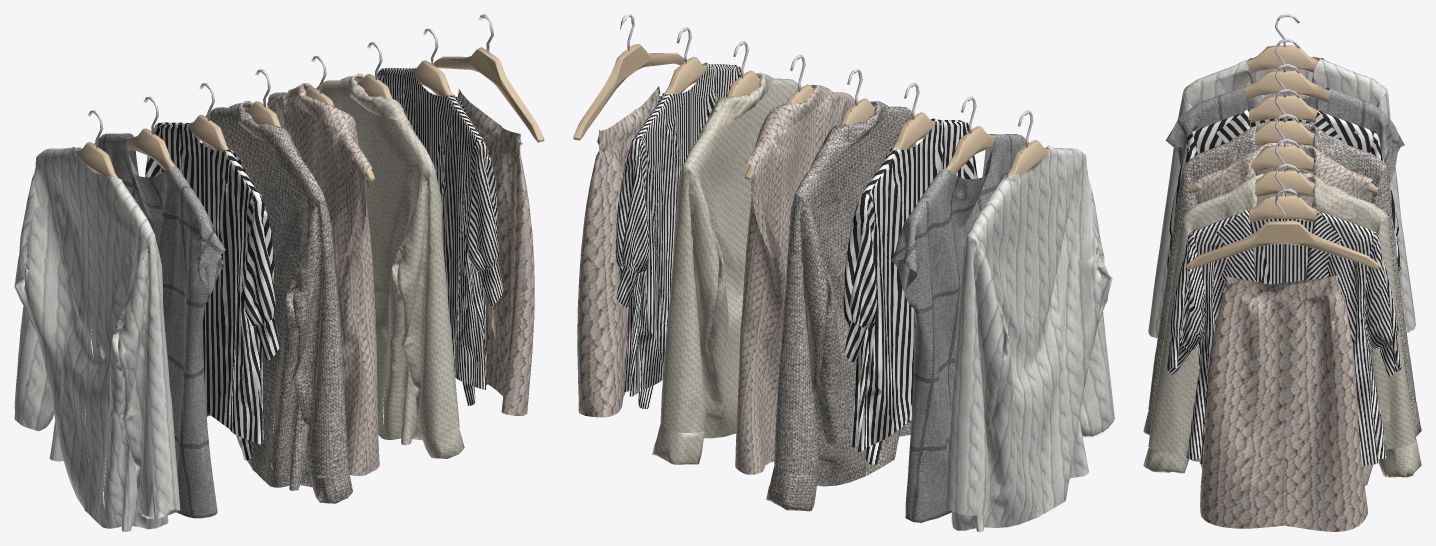
File: rod-hang-short.glb
3 views of the same model, side by side, from view 1: azimuth 30°, elevation 25°; view 2: azimuth 150°, elevation 25°; view 3: azimuth 270°, elevation 25° (orthographic). The views are drawn at different scales.
Parts seen in each view (by area): view 1: set_14_008.001, set_14_015.001, set_14_014.001, set_14_009.001, set_14_017.001, set_14_013.001, set_14_016.001, set_14_094.001, Hanger_set_14_049.001, Hanger_set_14_029.001, Hanger_set_14_051.001, Hanger_set_14_028.001 (+3 smaller); view 2: set_14_008.001, set_14_015.001, set_14_014.001, set_14_009.001, set_14_017.001, set_14_013.001, set_14_016.001, set_14_094.001, Hanger_set_14_049.001, Hanger_set_14_029.001, Hanger_set_14_028.001, Hanger_set_14_051.001 (+3 smaller); view 3: set_14_094.001, set_14_016.001, set_14_014.001, set_14_015.001, set_14_008.001, set_14_017.001, set_14_009.001, set_14_013.001, Hanger_set_14_049.001, Hanger_set_14_029.001, Hanger_set_14_051.001, Hanger_set_14_095.001 (+4 smaller).
Boxes of the visible parts, <box> form: set_14_008.001: <box>14,147,180,531</box>; set_14_015.001: <box>202,101,352,503</box>; set_14_014.001: <box>316,73,464,458</box>; set_14_009.001: <box>145,122,279,460</box>; set_14_017.001: <box>94,133,225,518</box>; set_14_013.001: <box>268,83,379,475</box>; set_14_016.001: <box>377,68,503,405</box>; set_14_094.001: <box>457,88,534,415</box>; Hanger_set_14_049.001: <box>433,14,544,142</box>; Hanger_set_14_029.001: <box>126,96,197,205</box>; Hanger_set_14_051.001: <box>402,28,481,148</box>; Hanger_set_14_028.001: <box>177,83,255,203</box>; set_14_008.001: <box>945,145,1114,531</box>; set_14_015.001: <box>766,101,916,511</box>; set_14_014.001: <box>652,72,801,464</box>; set_14_009.001: <box>843,118,977,464</box>; set_14_017.001: <box>891,134,1028,522</box>; set_14_013.001: <box>735,84,854,474</box>; set_14_016.001: <box>615,62,741,408</box>; set_14_094.001: <box>577,86,660,417</box>; Hanger_set_14_049.001: <box>573,14,684,140</box>; Hanger_set_14_029.001: <box>946,96,995,174</box>; Hanger_set_14_028.001: <box>889,82,967,162</box>; Hanger_set_14_051.001: <box>661,27,739,108</box>; set_14_094.001: <box>1200,274,1368,531</box>; set_14_016.001: <box>1166,209,1401,471</box>; set_14_014.001: <box>1143,173,1421,485</box>; set_14_015.001: <box>1143,122,1421,436</box>; set_14_008.001: <box>1148,56,1415,337</box>; set_14_017.001: <box>1166,86,1404,182</box>; set_14_009.001: <box>1166,109,1401,270</box>; set_14_013.001: <box>1189,142,1373,461</box>; Hanger_set_14_049.001: <box>1186,188,1379,269</box>; Hanger_set_14_029.001: <box>1245,39,1329,102</box>; Hanger_set_14_051.001: <box>1202,163,1373,240</box>; Hanger_set_14_095.001: <box>1188,114,1378,193</box>.
Size of the model in its own units: 0.9391 by 0.8144 by 0.5656.
24 materials, 8 textured.
